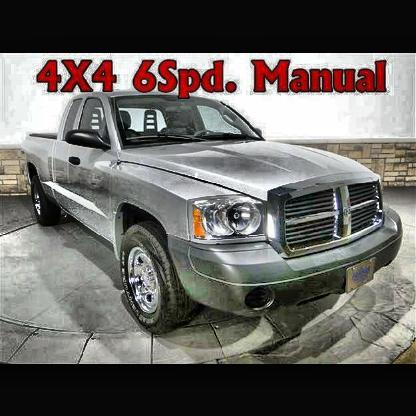Dodge Dakota Club Cab 2007: (23, 91, 405, 338)
